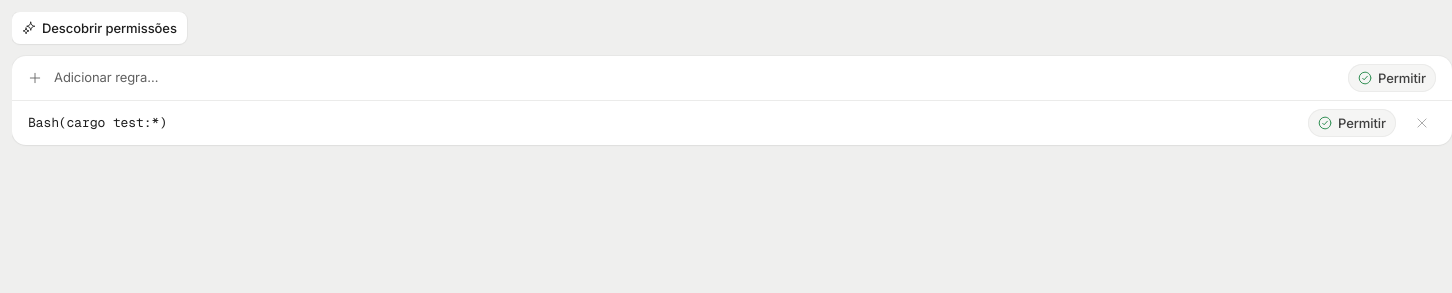
Test: aba de permissões › descobrir traz tudo marcado e só entra o que ficou marcado
Click the button "Descobrir permissões": (99, 28) [12,12,187,44]
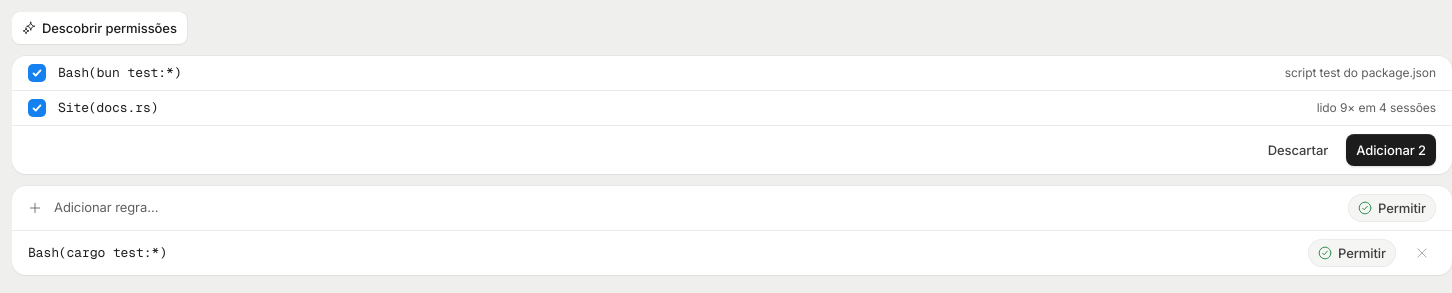
expect the text "script test do package.json" is shown: met, box [1285,65,1436,81]
Click the checkbox named "Site(docs.rs)": (37, 108) [28,99,46,117]
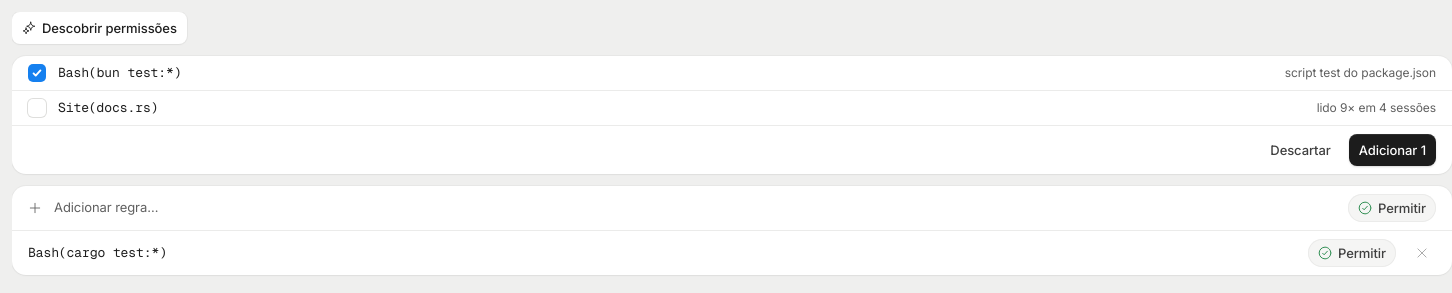
Click the button "Adicionar 1": (1392, 150) [1349,134,1436,166]
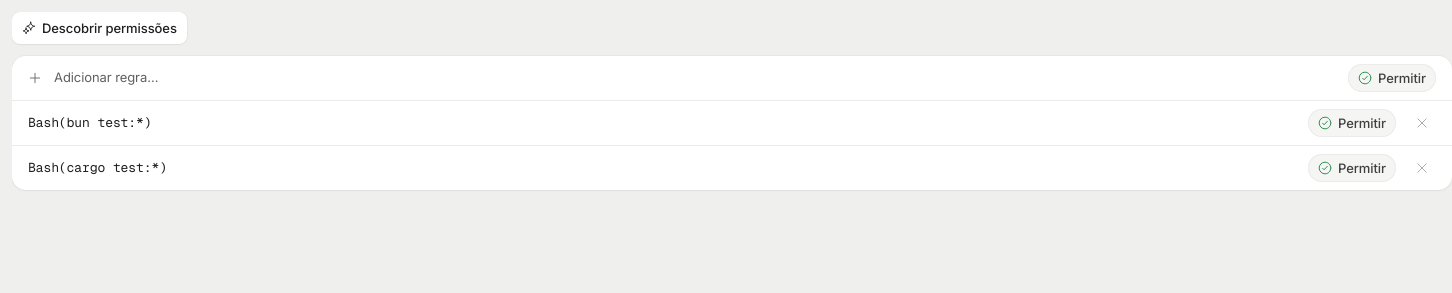
expect the checkbox is gone: met
